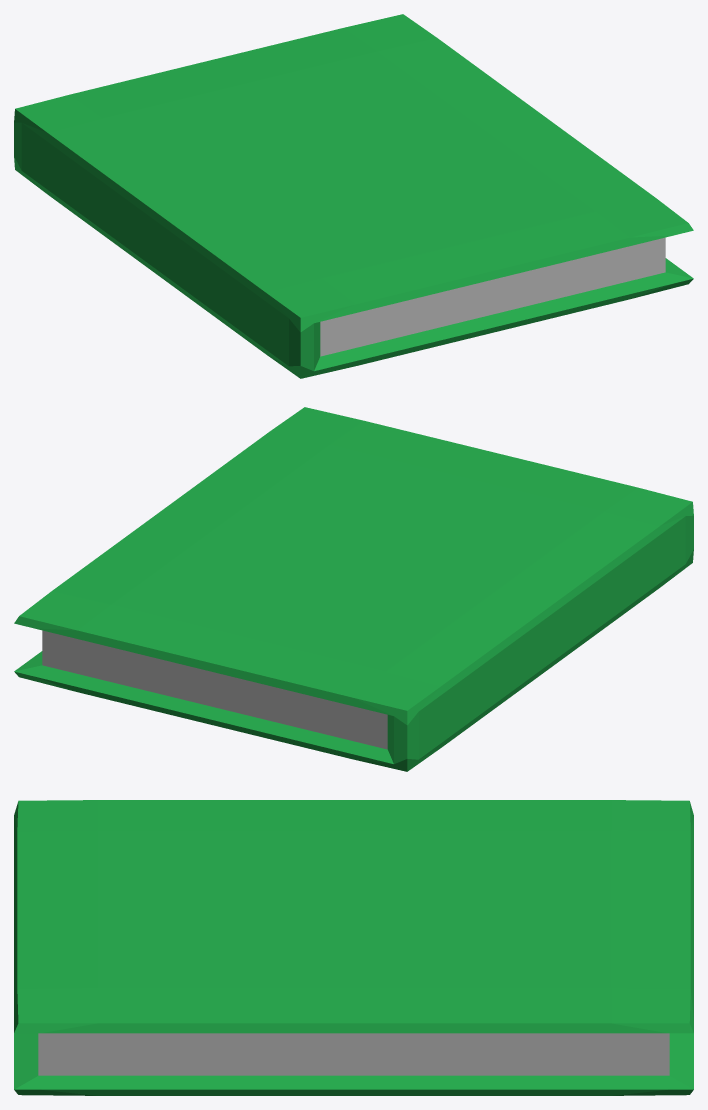
Rendered from BookVar3.fbx.
3 renders of one model, top to bottom at view 1: azimuth 30°, elevation 25°; view 2: azimuth 150°, elevation 25°; view 3: azimuth 270°, elevation 25°, orthographic. The views are drawn at different scales.
Parts seen in each view (by area): view 1: Book.003; view 2: Book.003; view 3: Book.003.
Boxes of the visible parts, box(x1,y1,x2,y2) form: Book.003: box(14, 14, 693, 378); Book.003: box(14, 407, 693, 771); Book.003: box(14, 800, 693, 1095).
Bounding box in the file's own units: 280 × 220 × 34.
